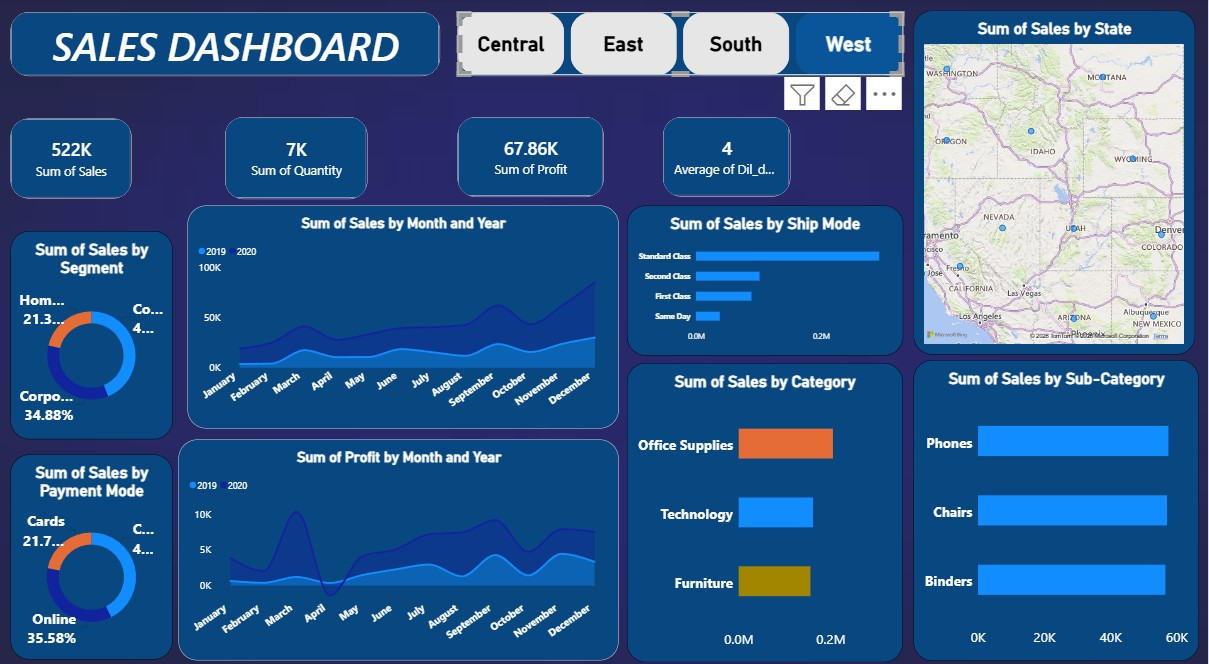

What the dashboard file says about the page in this screenshot:
{"tool":"powerbi","page":{"name":"Page 1","canvas":[1920,1080],"ordinal":0},"visuals":[{"type":"map","title":"Sum of Sales by State","fields":{"Category":["SuperStore_Sales_Dataset (1).State"]},"box":[1452.5,21.8,447.9,547.4],"z":0},{"type":"barChart","fields":{"Category":["SuperStore_Sales_Dataset (1).Sub-Category"],"Y":["Sum(SuperStore_Sales_Dataset (1).Sales)"]},"box":[1452.5,578.5,454.1,479],"z":1000},{"type":"barChart","fields":{"Category":["SuperStore_Sales_Dataset (1).Category"],"Y":["Sum(SuperStore_Sales_Dataset (1).Sales)"]},"box":[998.4,581.6,438.5,475.9],"z":2000},{"type":"barChart","fields":{"Category":["SuperStore_Sales_Dataset (1).Ship Mode"],"Y":["Sum(SuperStore_Sales_Dataset (1).Sales)"]},"box":[997.3,331.6,439,238.6],"z":3000},{"type":"cardVisual","fields":{"Data":["Sum(SuperStore_Sales_Dataset (1).Sales)"]},"box":[17,192.8,192.8,127.5],"z":4000},{"type":"cardVisual","fields":{"Data":["Sum(SuperStore_Sales_Dataset (1).Quantity)"]},"box":[357.2,189.9,226.8,130.4],"z":5000},{"type":"cardVisual","fields":{"Data":["Sum(SuperStore_Sales_Dataset (1).Profit)"]},"box":[728.5,189.9,232.4,127.6],"z":6000},{"type":"donutChart","fields":{"Category":["SuperStore_Sales_Dataset (1).Segment"],"Y":["Sum(SuperStore_Sales_Dataset (1).Sales)"]},"box":[17,371.3,258,331.7],"z":7000},{"type":"stackedAreaChart","title":"Sum of Sales by Month and Year","fields":{"Category":["SuperStore_Sales_Dataset (1).Order Date.Variation.Date Hierarchy.Month"],"Series":["SuperStore_Sales_Dataset (1).Order Date.Variation.Date Hierarchy.Year"],"Y":["Sum(SuperStore_Sales_Dataset (1).Sales)"]},"box":[297.6,331.7,686,354.3],"z":8000},{"type":"donutChart","fields":{"Category":["SuperStore_Sales_Dataset (1).Payment Mode"],"Y":["Sum(SuperStore_Sales_Dataset (1).Sales)"]},"box":[17,728.5,258,326],"z":9000},{"type":"stackedAreaChart","fields":{"Category":["SuperStore_Sales_Dataset (1).Order Date.Variation.Date Hierarchy.Month"],"Series":["SuperStore_Sales_Dataset (1).Order Date.Variation.Date Hierarchy.Year"],"Y":["Sum(SuperStore_Sales_Dataset (1).Profit)"]},"box":[283.5,703,700.2,351.5],"z":10000},{"type":"cardVisual","fields":{"Data":["SuperStore_Sales_Dataset (1).Display_text"]},"box":[17,22.7,683.2,102],"z":11000},{"type":"advancedSlicerVisual","fields":{"Values":["SuperStore_Sales_Dataset (1).Region"]},"box":[728.5,22.7,708.7,102],"z":12000},{"type":"cardVisual","fields":{"Data":["Avg(SuperStore_Sales_Dataset_.Dil_date)"]},"box":[1054.6,190.9,202.8,126.5],"z":12001}]}

Visuals, with their boxes in screenshot pixels (x1, y1, x2, y2), scaled from the page's 1920x1080 canvas onto the 1209x664 screenshot:
"Sum of Sales by State" map: x1=915, y1=13, x2=1197, y2=350
barChart - SuperStore_Sales_Dataset (1).Sub-Category x Sum(SuperStore_Sales_Dataset (1).Sales): x1=915, y1=356, x2=1201, y2=650
barChart - SuperStore_Sales_Dataset (1).Category x Sum(SuperStore_Sales_Dataset (1).Sales): x1=629, y1=358, x2=905, y2=650
barChart - SuperStore_Sales_Dataset (1).Ship Mode x Sum(SuperStore_Sales_Dataset (1).Sales): x1=628, y1=204, x2=904, y2=351
cardVisual - Sum(SuperStore_Sales_Dataset (1).Sales): x1=11, y1=119, x2=132, y2=197
cardVisual - Sum(SuperStore_Sales_Dataset (1).Quantity): x1=225, y1=117, x2=368, y2=197
cardVisual - Sum(SuperStore_Sales_Dataset (1).Profit): x1=459, y1=117, x2=605, y2=195
donutChart - SuperStore_Sales_Dataset (1).Segment x Sum(SuperStore_Sales_Dataset (1).Sales): x1=11, y1=228, x2=173, y2=432
"Sum of Sales by Month and Year" stackedAreaChart: x1=187, y1=204, x2=619, y2=422
donutChart - SuperStore_Sales_Dataset (1).Payment Mode x Sum(SuperStore_Sales_Dataset (1).Sales): x1=11, y1=448, x2=173, y2=648
stackedAreaChart - SuperStore_Sales_Dataset (1).Order Date.Variation.Date Hierarchy.Month x SuperStore_Sales_Dataset (1).Order Date.Variation.Date Hierarchy.Year: x1=179, y1=432, x2=619, y2=648
cardVisual - SuperStore_Sales_Dataset (1).Display_text: x1=11, y1=14, x2=441, y2=77
advancedSlicerVisual - SuperStore_Sales_Dataset (1).Region: x1=459, y1=14, x2=905, y2=77
cardVisual - Avg(SuperStore_Sales_Dataset_.Dil_date): x1=664, y1=117, x2=792, y2=195
